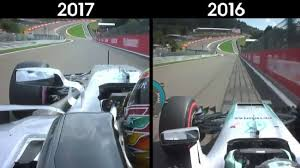f1_car: (1, 60, 151, 168), (156, 88, 300, 167)
